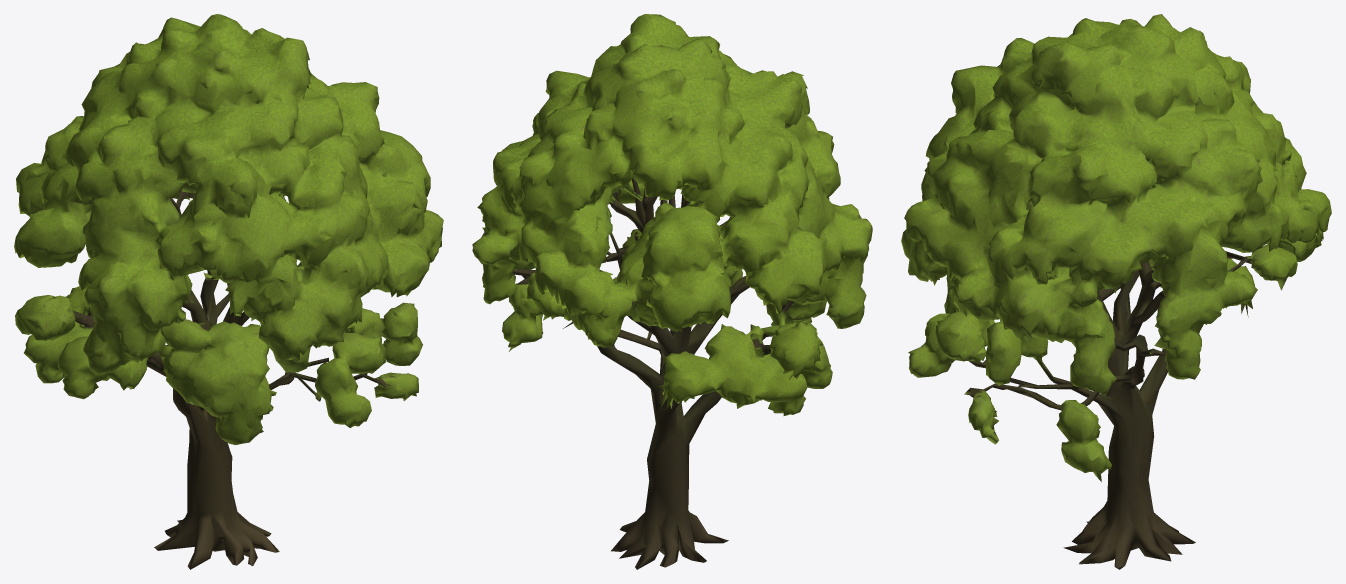
The model's file is oak.glb.
3 renders of one model, left to right at view 1: azimuth 30°, elevation 25°; view 2: azimuth 150°, elevation 25°; view 3: azimuth 270°, elevation 25°, orthographic. The views are drawn at different scales.
Size of the model in its own units: 1.39 by 1.89 by 1.41.
1 material, 1 textured.
